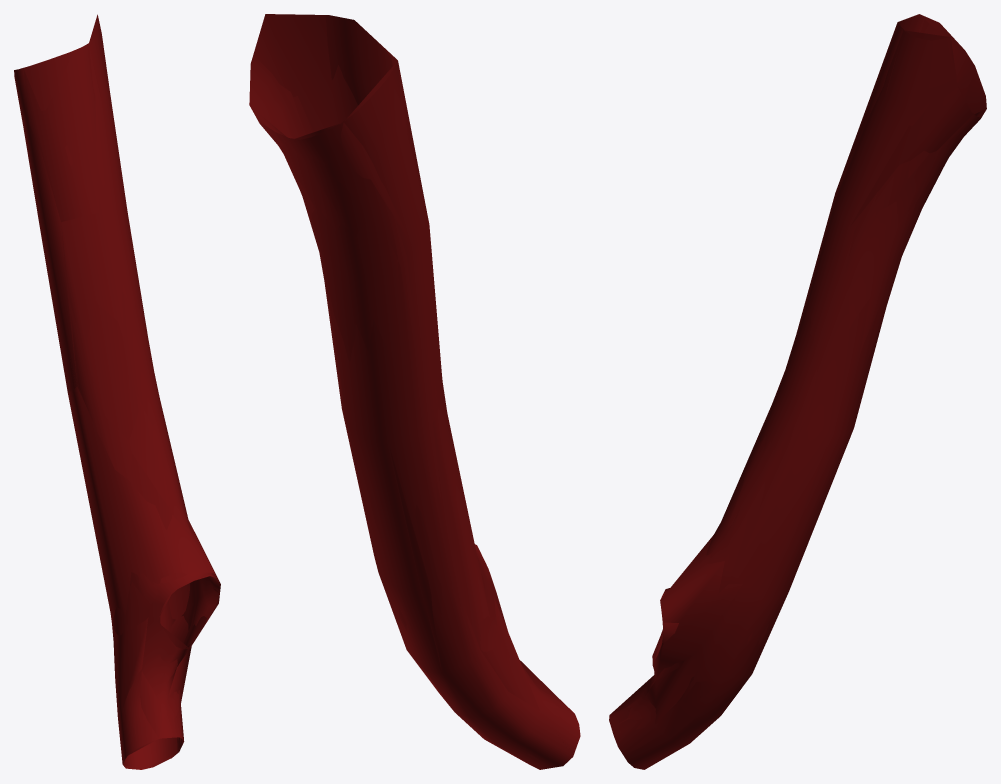
Rendered from R truncus linguofacialis.fbx.
3 renders of one model, left to right at view 1: azimuth 30°, elevation 25°; view 2: azimuth 150°, elevation 25°; view 3: azimuth 270°, elevation 25°, orthographic. The views are drawn at different scales.
Parts seen in each view (by area): view 1: R truncus linguofacialis, R truncus linguofacialis low, R truncus linguofacialis high; view 2: R truncus linguofacialis, R truncus linguofacialis high, R truncus linguofacialis low; view 3: R truncus linguofacialis, R truncus linguofacialis high, R truncus linguofacialis low.
Boxes of the visible parts, left/top/right/bottom form: R truncus linguofacialis: left=14, top=15, right=220, bottom=769; R truncus linguofacialis low: left=23, top=15, right=220, bottom=769; R truncus linguofacialis high: left=20, top=19, right=219, bottom=769; R truncus linguofacialis: left=249, top=15, right=580, bottom=769; R truncus linguofacialis high: left=250, top=15, right=574, bottom=766; R truncus linguofacialis low: left=250, top=14, right=578, bottom=765; R truncus linguofacialis: left=609, top=14, right=986, bottom=769; R truncus linguofacialis high: left=614, top=16, right=986, bottom=768; R truncus linguofacialis low: left=610, top=14, right=986, bottom=724.
Size of the model in its own units: 1.01 by 5.51 by 2.43.
